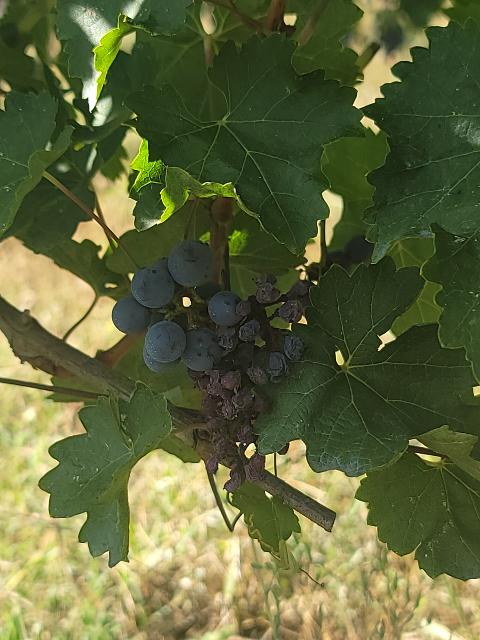grapes: (112, 240, 312, 492)
